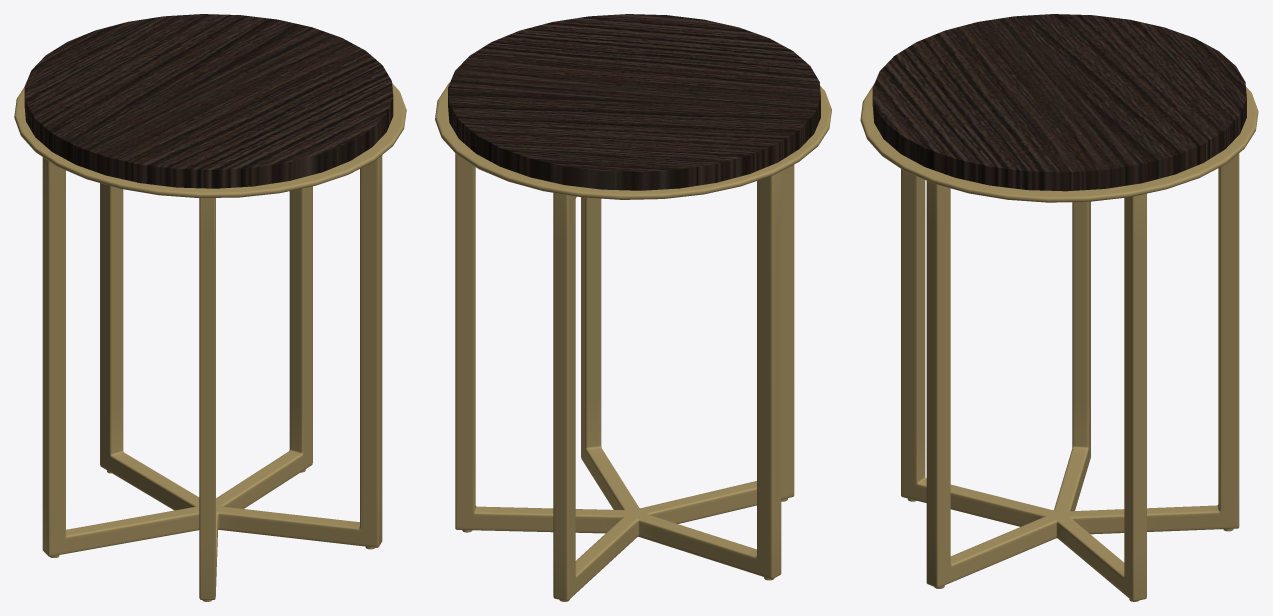
File: concord_side_table_short.glb
3 views of the same model, side by side, from view 1: azimuth 30°, elevation 25°; view 2: azimuth 150°, elevation 25°; view 3: azimuth 270°, elevation 25° (orthographic).
Parts seen in each view (by area): view 1: Cylinder024, Rectangle023, Cylinder023; view 2: Cylinder024, Rectangle023, Cylinder023; view 3: Cylinder024, Rectangle023, Cylinder023.
Boxes of the visible parts, x1,y1,x2,y2 form: Cylinder024: (24, 14, 393, 188); Rectangle023: (42, 155, 382, 601); Cylinder023: (14, 83, 406, 198); Cylinder024: (448, 14, 820, 190); Rectangle023: (455, 153, 794, 601); Cylinder023: (435, 82, 831, 199); Cylinder024: (872, 14, 1246, 191); Rectangle023: (901, 153, 1239, 601); Cylinder023: (860, 84, 1258, 202).
Bounding box in the file's own units: 0.3819 × 0.4693 × 0.3821.
2 materials, 1 textured.
